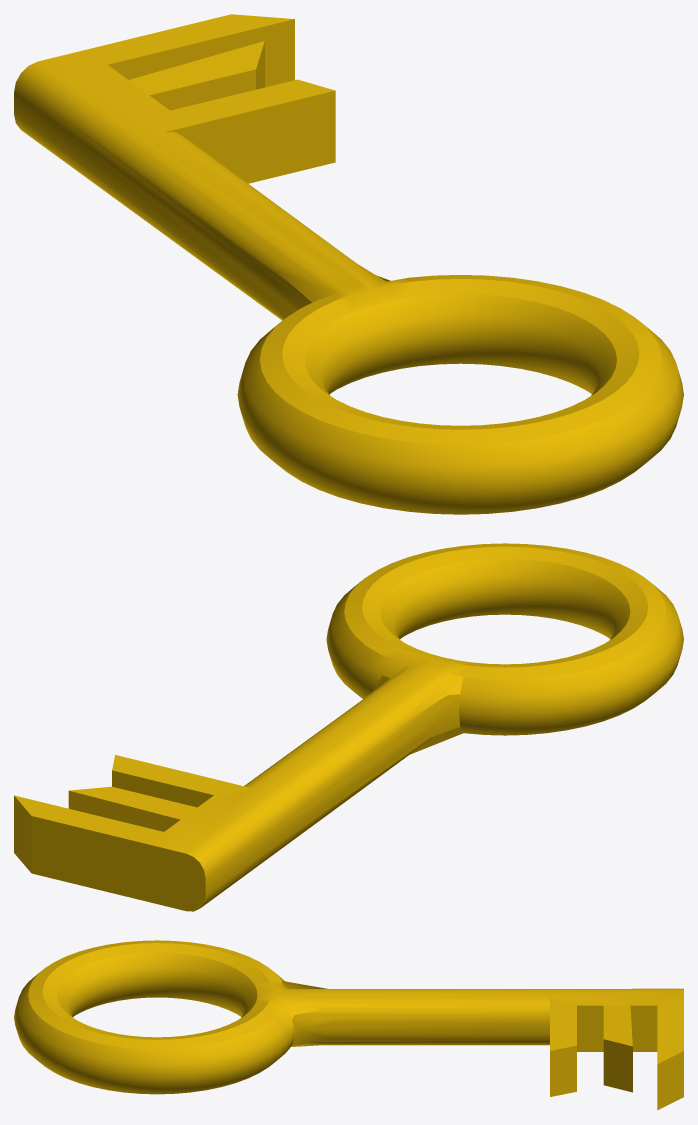
File: key.glb
3 renders of one model, top to bottom at view 1: azimuth 30°, elevation 25°; view 2: azimuth 150°, elevation 25°; view 3: azimuth 270°, elevation 25°, orthographic. The views are drawn at different scales.
Parts seen in each view (by area): view 1: Torus; view 2: Torus; view 3: Torus.
Boxes of the visible parts, box(x1,y1,x2,y2) form: Torus: box(14, 14, 683, 514); Torus: box(14, 543, 683, 911); Torus: box(14, 940, 683, 1110).
Size of the model in its own units: 0.0467 by 0.00866 by 0.1012.
